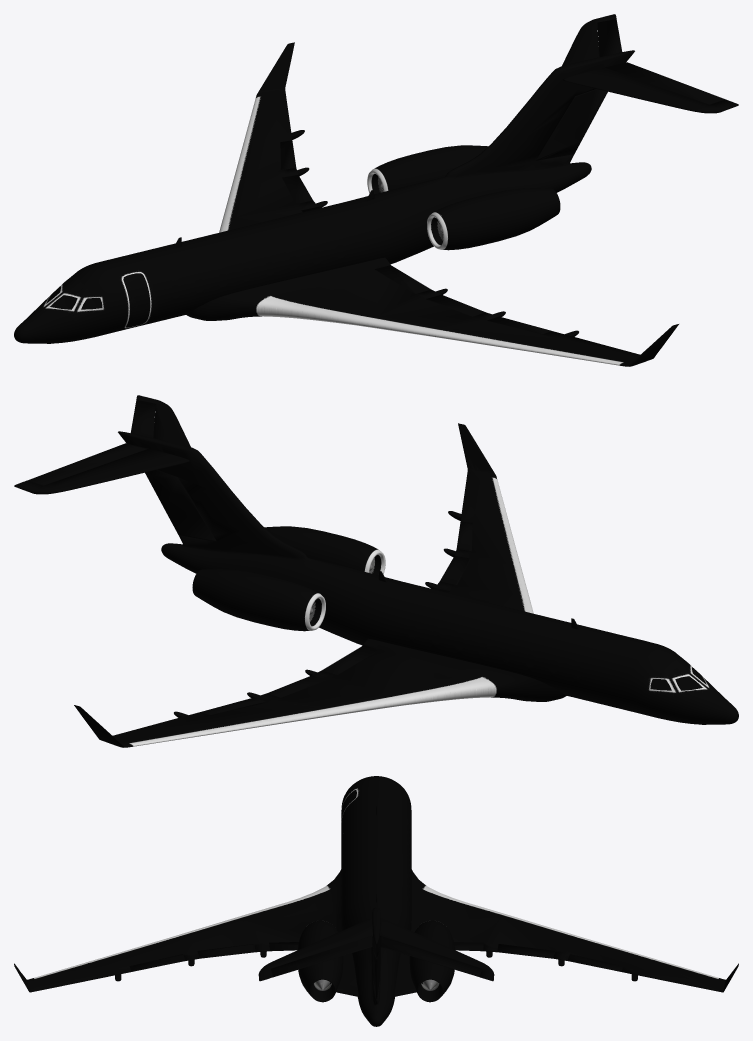
The model's file is uploads_files_2139909_private_jet_black.glb.
3 views of the same model, one above another, from view 1: azimuth 30°, elevation 25°; view 2: azimuth 150°, elevation 25°; view 3: azimuth 270°, elevation 25° (orthographic). The views are drawn at different scales.
Parts seen in each view (by area): view 1: Object_4; view 2: Object_4; view 3: Object_4.
Boxes of the visible parts, x1,y1,x2,y2 form: Object_4: (14,14,738,366); Object_4: (14,395,738,747); Object_4: (14,776,738,1026).
Size of the model in its own units: 26.22 by 6.26 by 26.4.
Materials: 1 (1 with a texture image).
